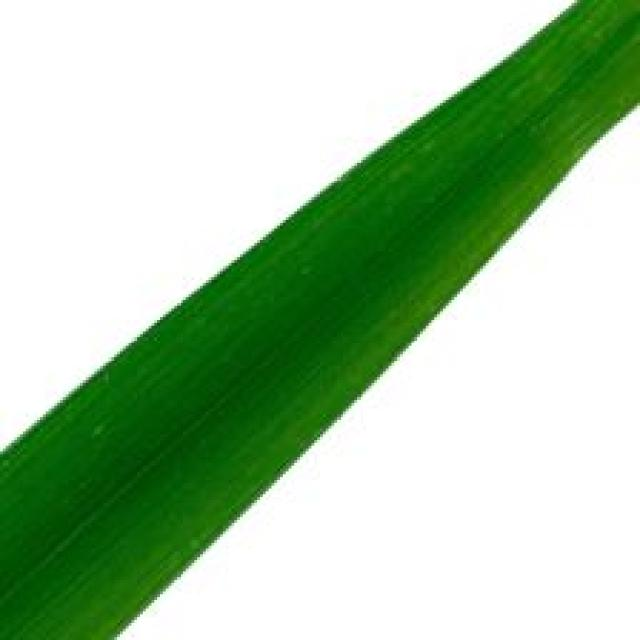Rice___Healthy_Rice_Plant: (0, 0, 637, 637)
